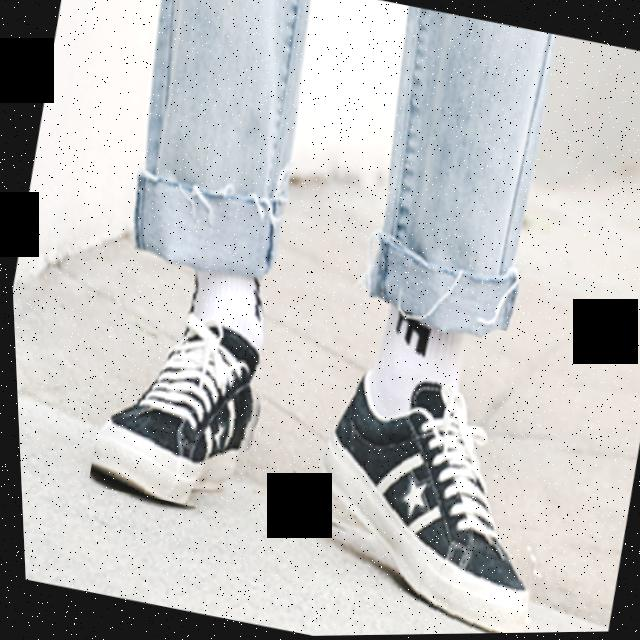shoe: (290, 301, 577, 637), (74, 248, 293, 519)
